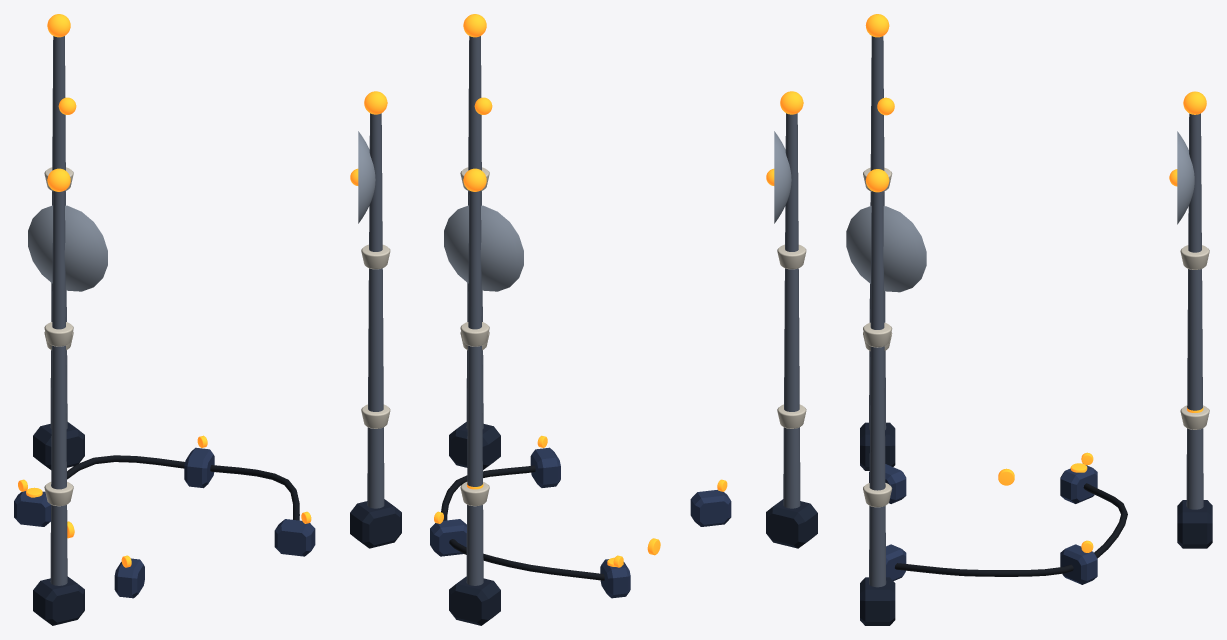
Rendered from tower_overclock_network_s7.glb.
3 renders of one model, left to right at view 1: azimuth 30°, elevation 25°; view 2: azimuth 150°, elevation 25°; view 3: azimuth 270°, elevation 25°, orthographic.
Visible parts, largest first — view 1: overclock_antenna2, overclock_antenna1, overclock_link_dish2, overclock_antenna0, overclock_antenna_foot1, overclock_antenna_foot2, overclock_relay_cable, overclock_antenna_foot0, overclock_relay2, overclock_link_dish1, overclock_relay0, overclock_relay1 (+3 smaller); view 2: overclock_antenna0, overclock_antenna2, overclock_link_dish0, overclock_antenna1, overclock_antenna_foot0, overclock_antenna_foot2, overclock_relay_cable, overclock_antenna_foot1, overclock_relay3, overclock_link_dish2, overclock_relay1, overclock_relay2 (+3 smaller); view 3: overclock_antenna1, overclock_antenna0, overclock_link_dish1, overclock_antenna2, overclock_relay_cable, overclock_antenna_foot0, overclock_antenna_foot1, overclock_link_dish0, overclock_relay1, overclock_relay0, overclock_antenna_foot2, overclock_relay3 (+5 smaller).
Part boxes in pixels (x1,y1,x2,y2): overclock_antenna2: (50,190,67,585); overclock_antenna1: (367,113,384,508); overclock_link_dish2: (28,205,107,291); overclock_antenna0: (50,36,67,428); overclock_antenna_foot1: (350,499,401,548); overclock_antenna_foot2: (33,576,84,625); overclock_relay_cable: (67,455,299,520); overclock_antenna_foot0: (33,422,84,469); overclock_relay2: (274,519,315,556); overclock_link_dish1: (358,131,375,223); overclock_relay0: (14,491,50,526); overclock_relay1: (184,447,214,488); overclock_antenna0: (466,190,483,585); overclock_antenna2: (783,113,800,508); overclock_link_dish0: (444,205,523,291); overclock_antenna1: (466,36,483,428); overclock_antenna_foot0: (449,576,500,625); overclock_antenna_foot2: (766,499,817,548); overclock_relay_cable: (441,465,604,580); overclock_antenna_foot1: (449,422,500,469); overclock_relay3: (690,489,731,526); overclock_link_dish2: (774,131,791,223); overclock_relay1: (430,519,466,556); overclock_relay2: (530,447,560,487); overclock_antenna1: (869,191,886,587); overclock_antenna0: (1186,113,1203,509); overclock_link_dish1: (846,206,926,292); overclock_antenna2: (869,36,886,429); overclock_relay_cable: (895,483,1127,576); overclock_antenna_foot0: (1177,500,1212,548); overclock_antenna_foot1: (860,577,895,625); overclock_link_dish0: (1177,131,1194,224); overclock_relay1: (1060,544,1097,584); overclock_relay0: (1060,465,1097,503); overclock_antenna_foot2: (860,422,895,470); overclock_relay3: (869,464,906,503).
Bounding box in the file's own units: 1.4 × 1.69 × 1.25.
